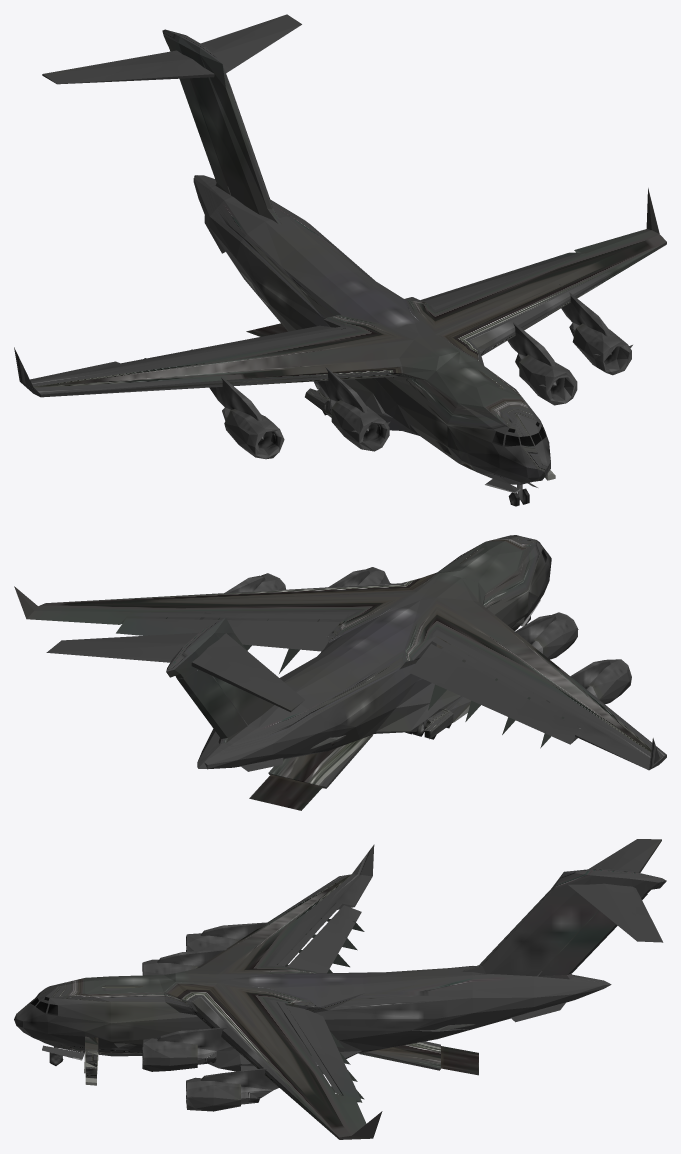
3 views of the same model, one above another, from view 1: azimuth 30°, elevation 25°; view 2: azimuth 150°, elevation 25°; view 3: azimuth 270°, elevation 25° (orthographic). The views are drawn at different scales.
Parts seen in each view (by area): view 1: Object_4; view 2: Object_4; view 3: Object_4.
Boxes of the visible parts, left/top/right/bottom form: Object_4: left=14, top=14, right=666, bottom=506; Object_4: left=14, top=535, right=666, bottom=810; Object_4: left=14, top=839, right=666, bottom=1139.
Bounding box in the file's own units: 52.35 × 17.83 × 54.17.
1 material, 1 textured.
